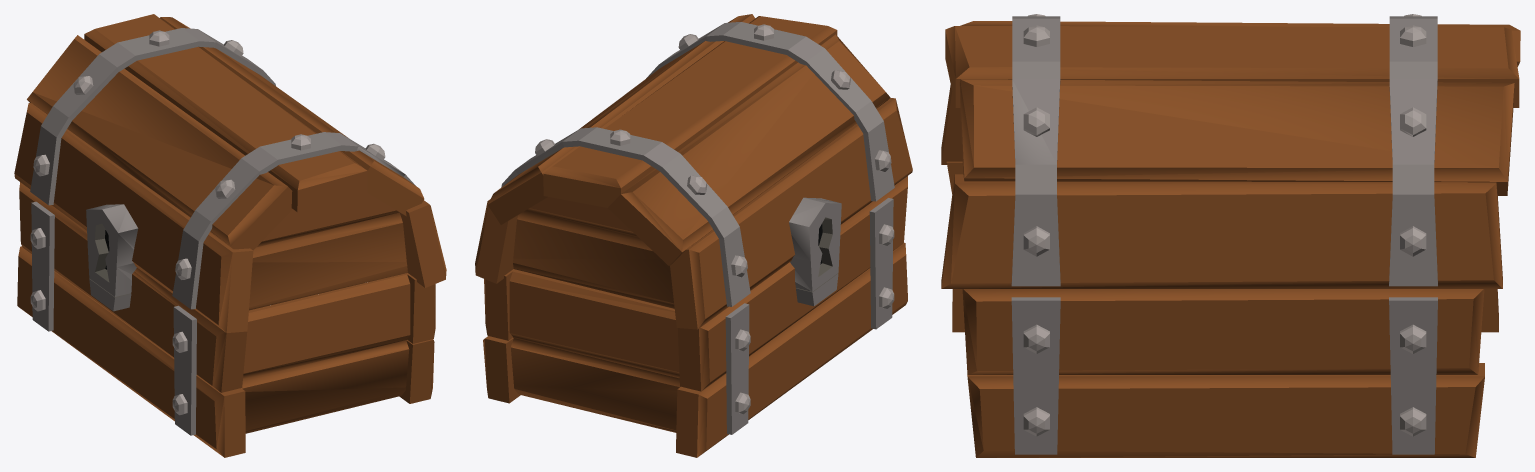
Rendered from chest.glb.
3 views of the same model, side by side, from view 1: azimuth 30°, elevation 25°; view 2: azimuth 150°, elevation 25°; view 3: azimuth 270°, elevation 25° (orthographic). The views are drawn at different scales.
Parts seen in each view (by area): view 1: lid, body; view 2: lid, body; view 3: lid, body.
Boxes of the visible parts, bbox=[...] form: lid: bbox=[14, 14, 446, 332]; body: bbox=[17, 182, 435, 457]; lid: bbox=[475, 14, 912, 329]; body: bbox=[483, 176, 907, 457]; lid: bbox=[941, 14, 1520, 288]; body: bbox=[946, 161, 1498, 457].
Size of the model in its own units: 1.01 by 1.03 by 1.5.
1 material, 1 textured.
